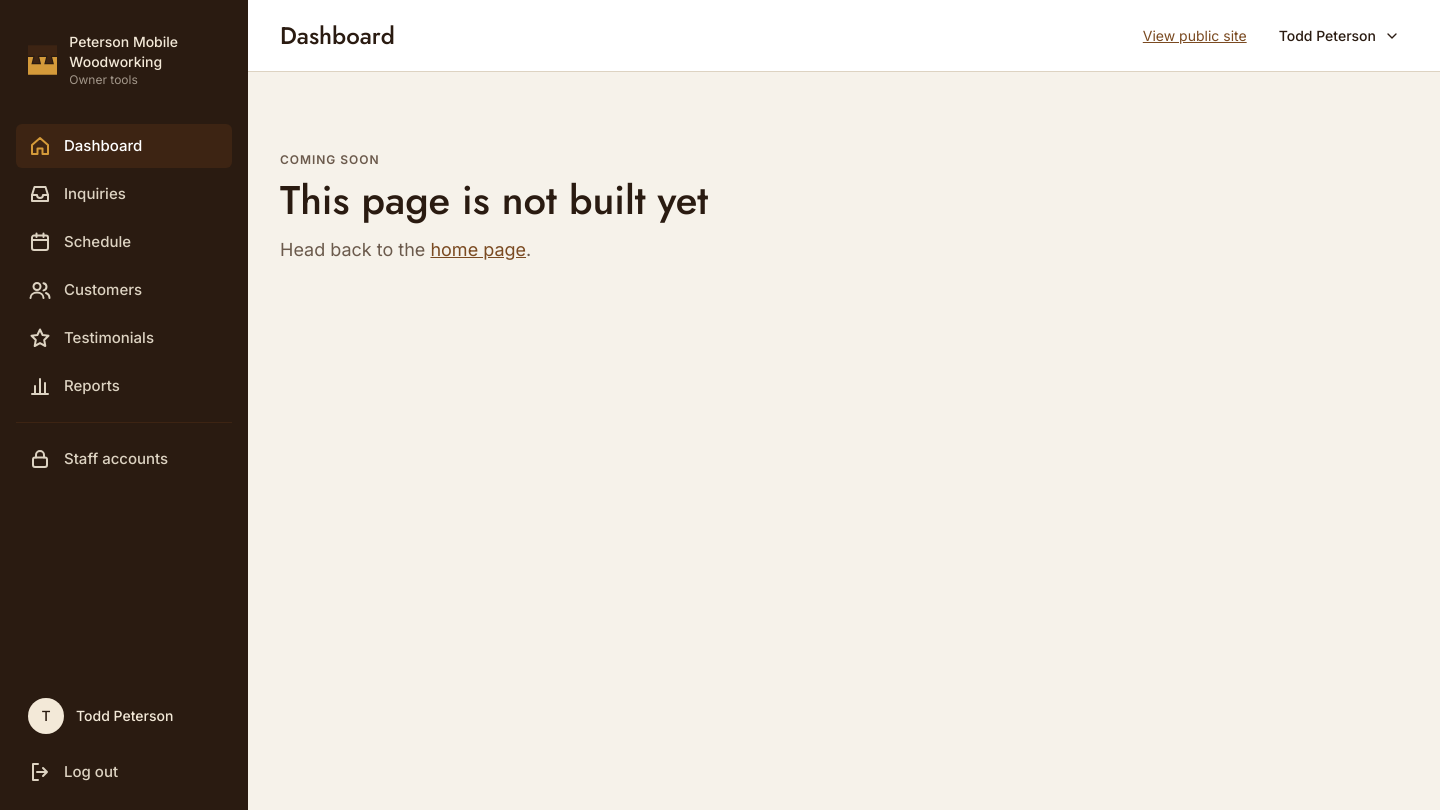
Test: Portal account logout with shared auth and route guards › shows the signed-in owner and opens the account menu
Click the button with aria-label "Account menu for Todd Peterson" at {"x": 1339, "y": 36}, box x1=1271 y1=14 x2=1408 y2=58
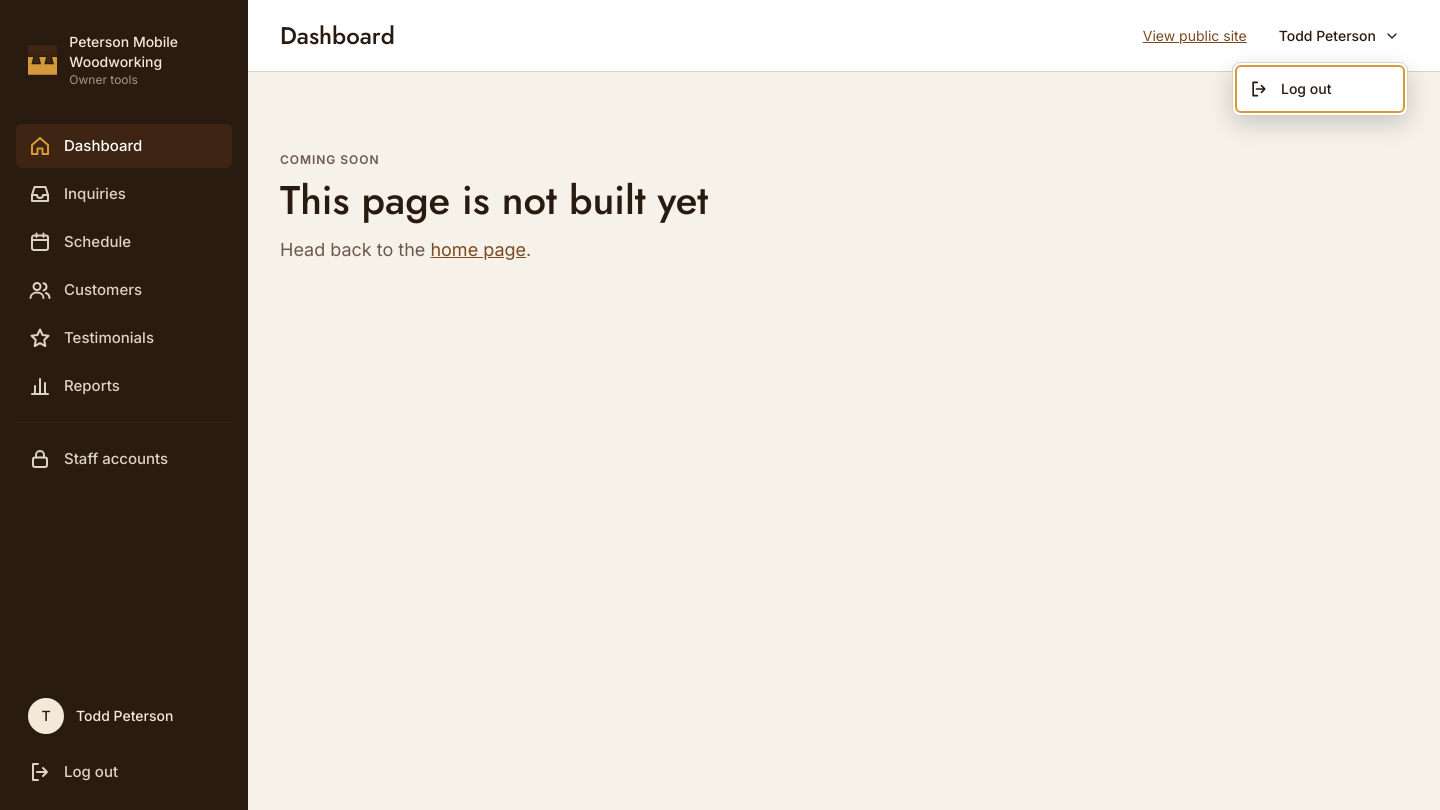
Now the menu named "Account" is shown, box x1=1232 y1=62 x2=1408 y2=116
